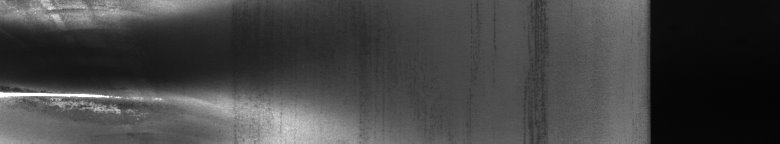ke: (4, 4, 235, 136)
